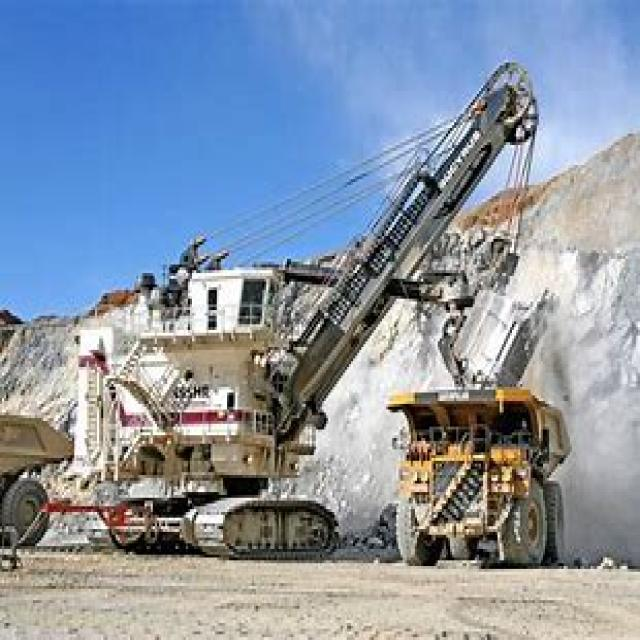dump_truck: (376, 372, 584, 574)
